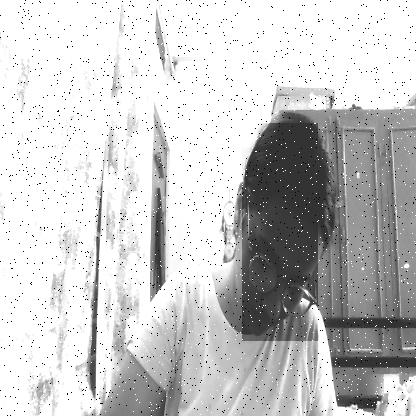Distracted: (242, 123, 318, 341)
